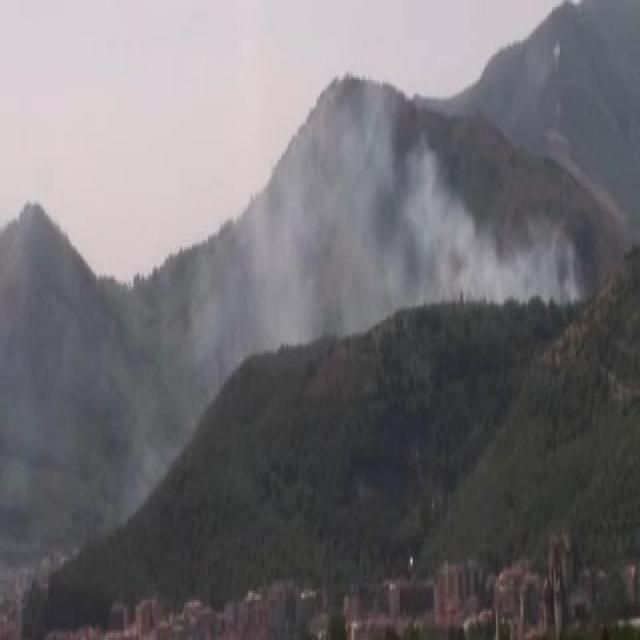smoke: (327, 92, 519, 310)
